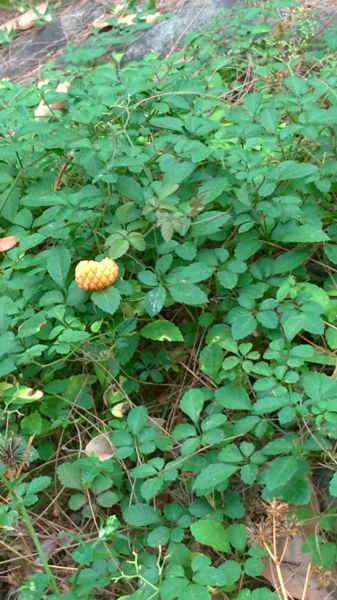eggs: (66, 254, 123, 294)
